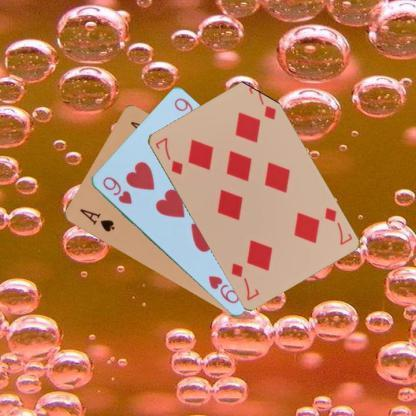7d: (321, 204, 353, 247), (152, 134, 184, 176)
9h: (99, 174, 133, 206)
As: (76, 206, 116, 234)
